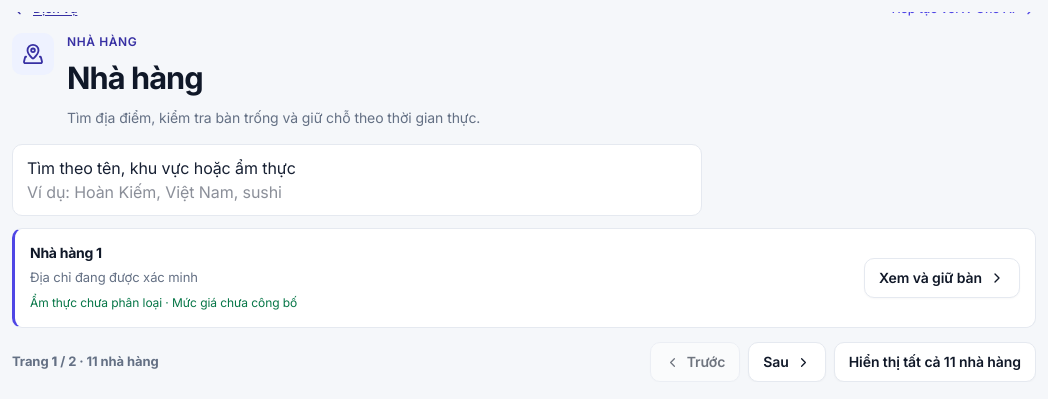
it: RestaurantBrowse real-time search › loads the next restaurant page from the server instead of slicing the first response
The image size is (1048, 399).
Click the button with aria-label "Trang sau".
click(787, 362)  # box [748, 342, 826, 382]
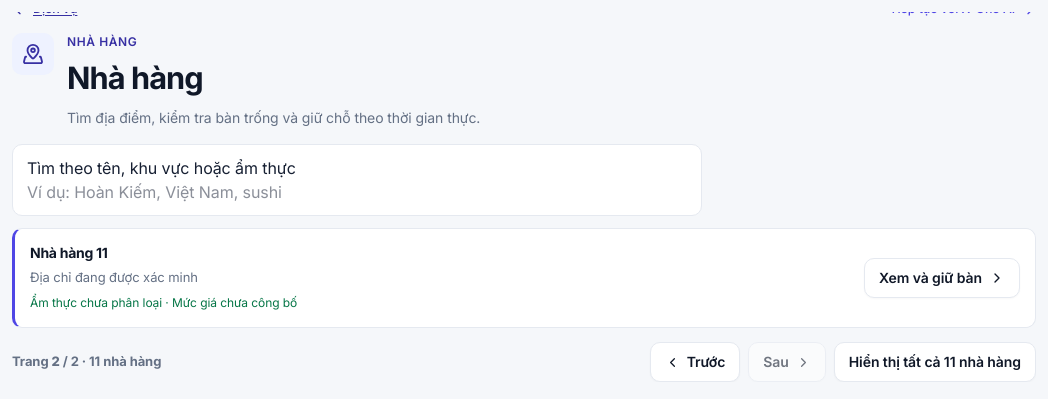
Expected: the heading "Nhà hàng 11" is shown, [30, 244, 108, 261]
